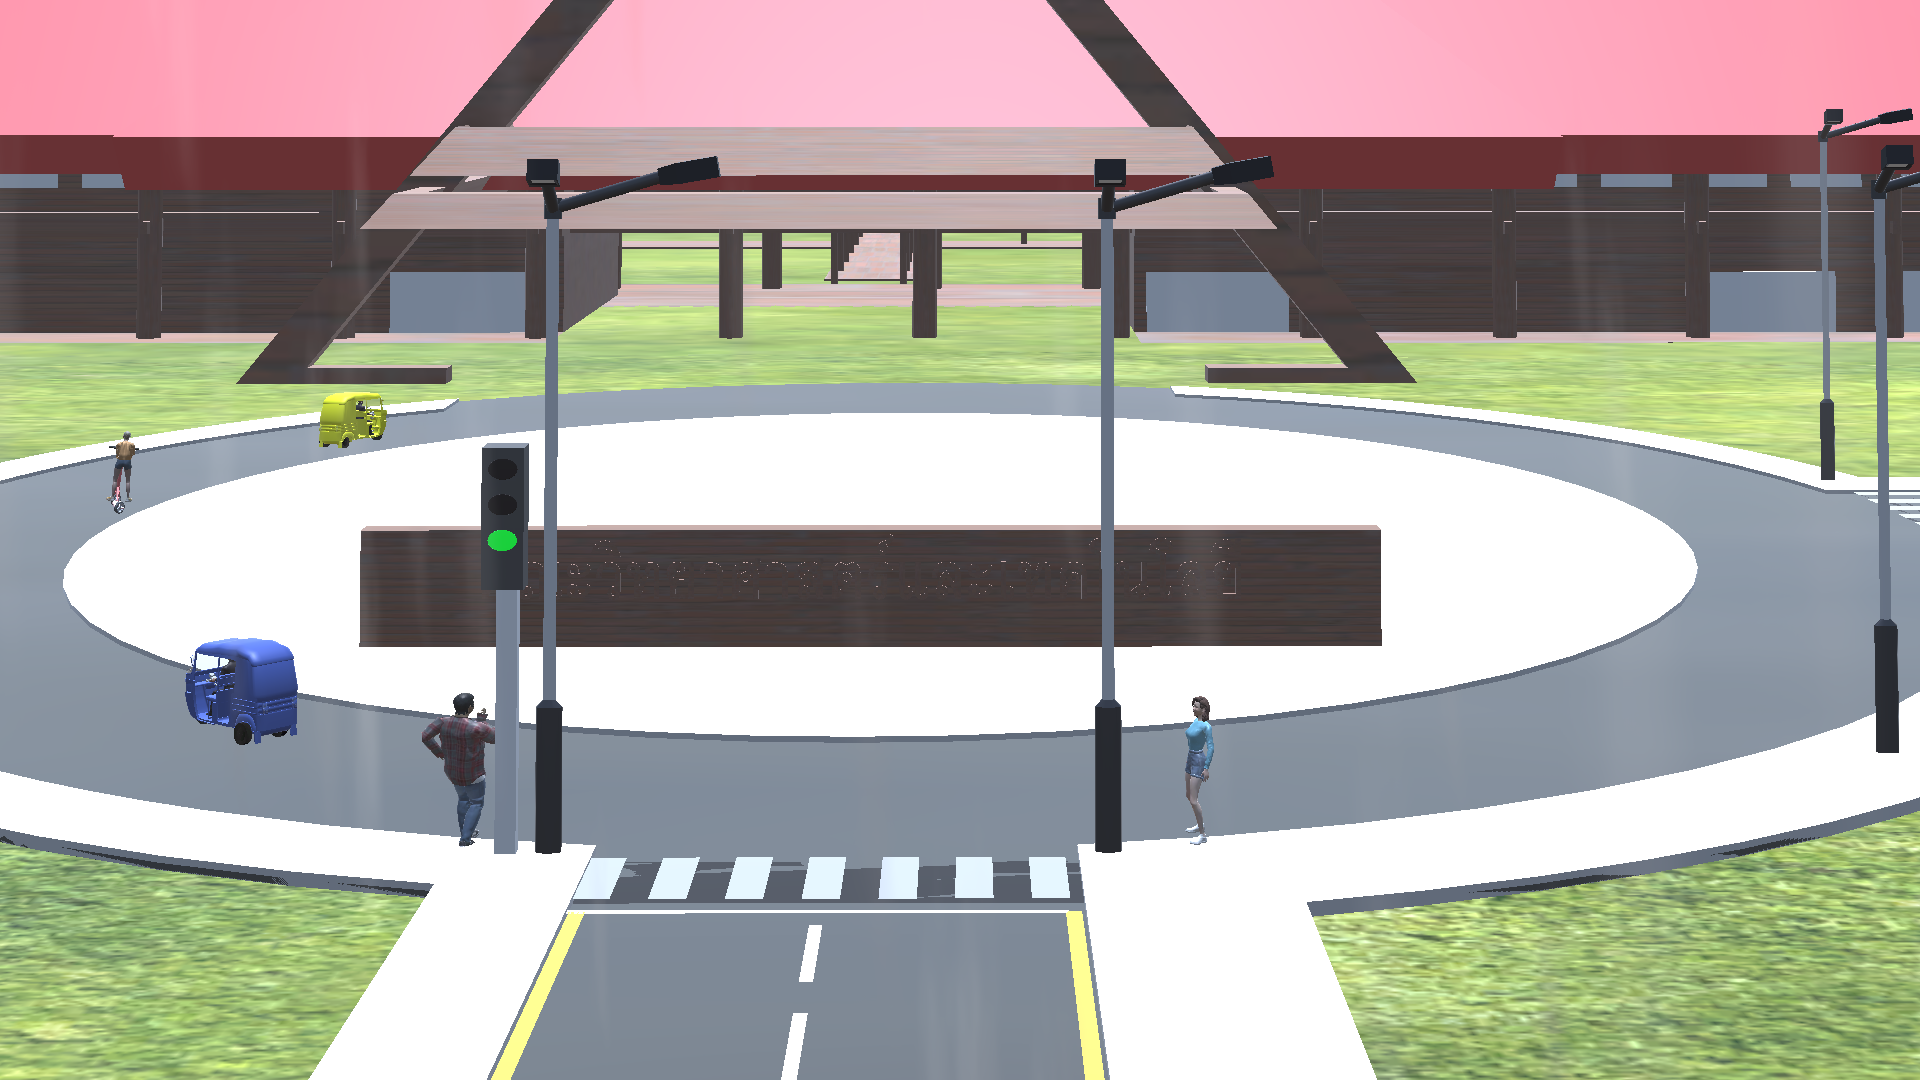pedestrian: (416, 687, 493, 850), (1172, 691, 1225, 859)
